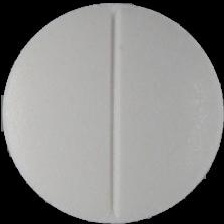63629-3210: (0, 0, 224, 224)
